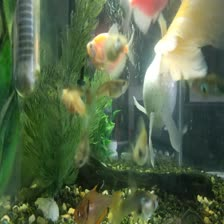Cuezo: (130, 2, 221, 170)
Guppy: (109, 186, 159, 223), (71, 120, 99, 170), (129, 115, 150, 165)
